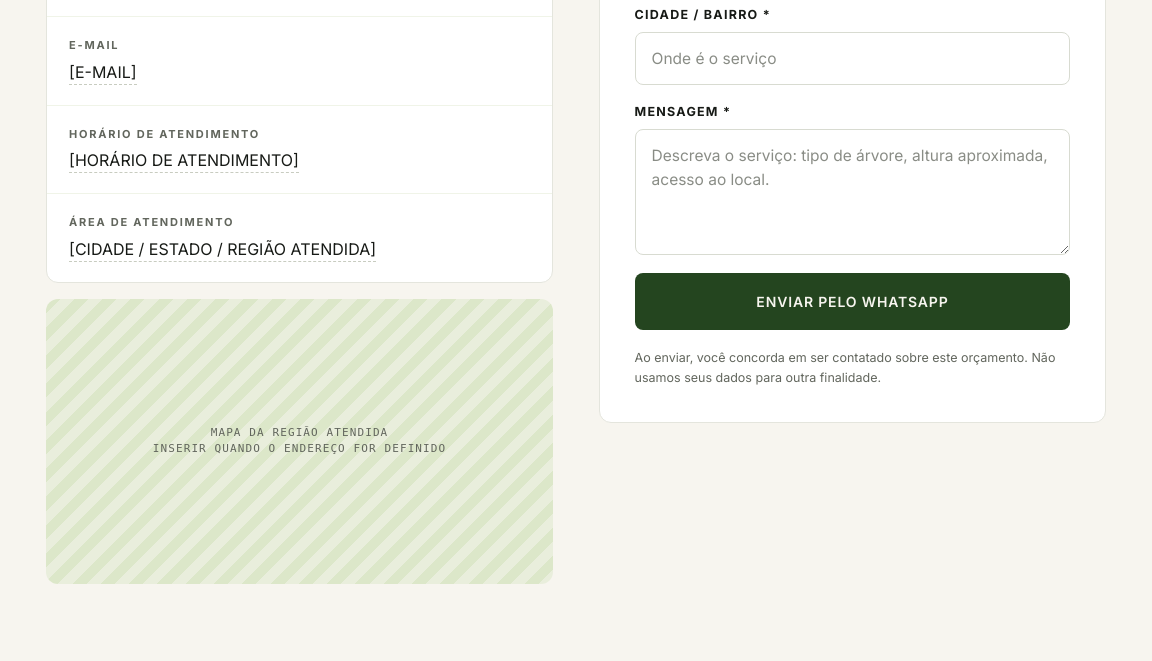
Scenario: formulário de contato › limpa o erro do campo assim que a pessoa digita nele
(page scrolled)
Click the button "Enviar pelo WhatsApp" at (852,301), box [635,273,1070,330]
(page scrolled)
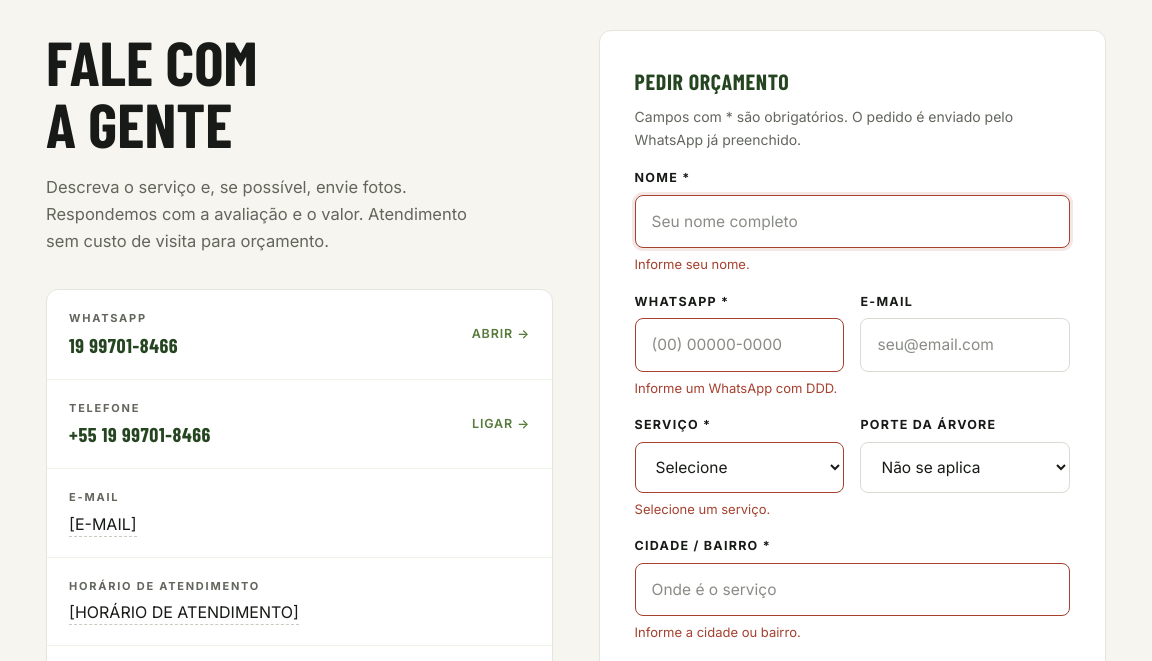
expect the text "Informe seu nome." is shown: met, box [635,256,750,272]
Type "Maria" into the field labelled "Nome * Informe seu nome." at (852,221), box [635,195,1070,248]
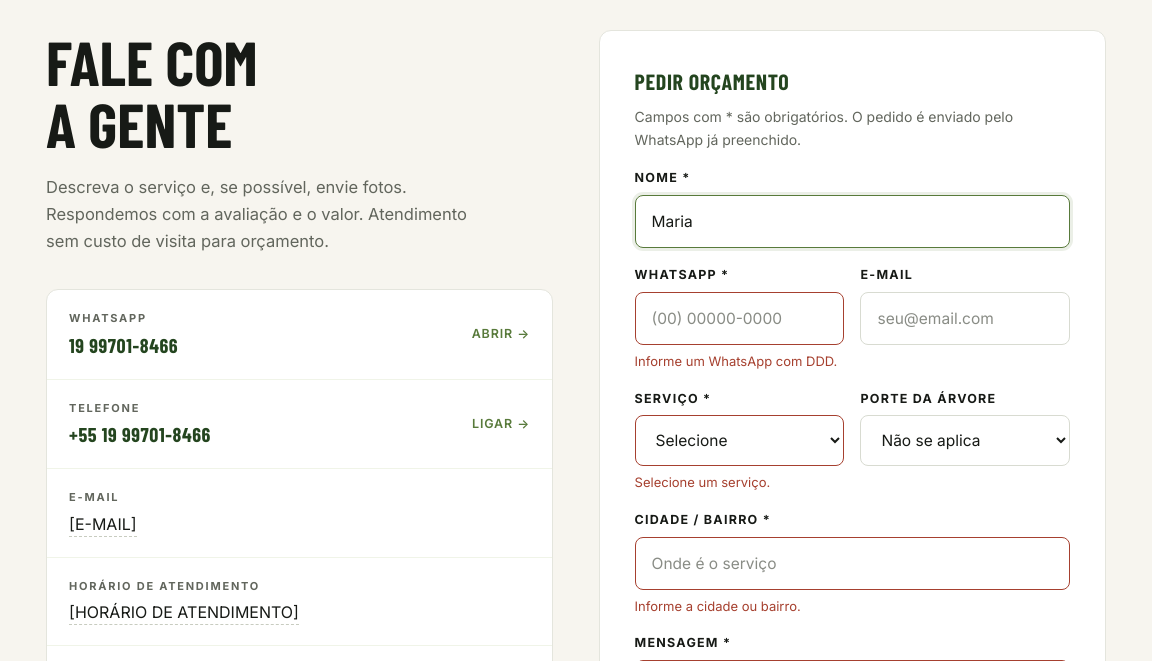
expect the text "Informe seu nome." is gone: met
